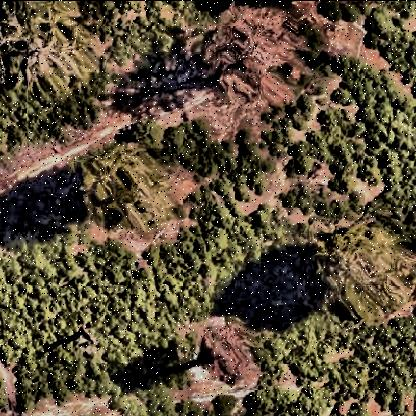tree-top: (203, 1, 307, 119), (320, 211, 416, 329), (77, 142, 165, 236), (1, 3, 86, 95), (196, 320, 258, 387)
